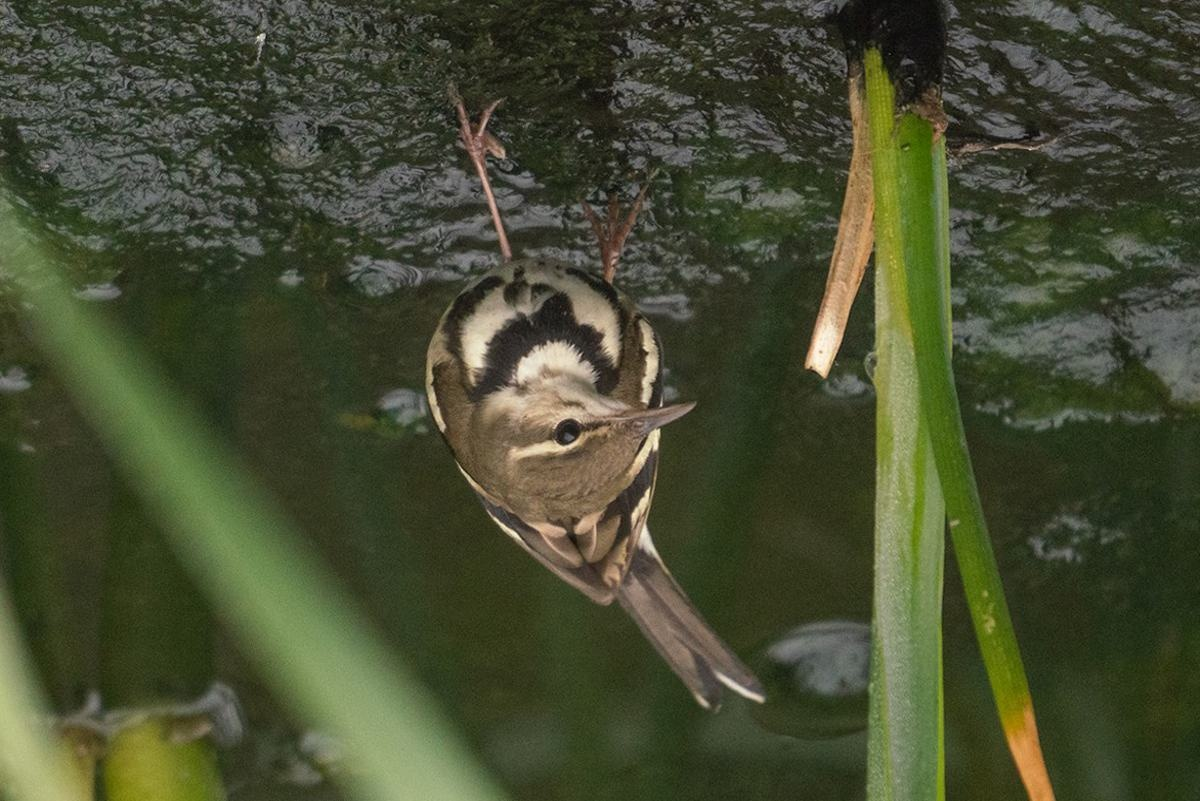wagtail: (419, 261, 753, 686)
